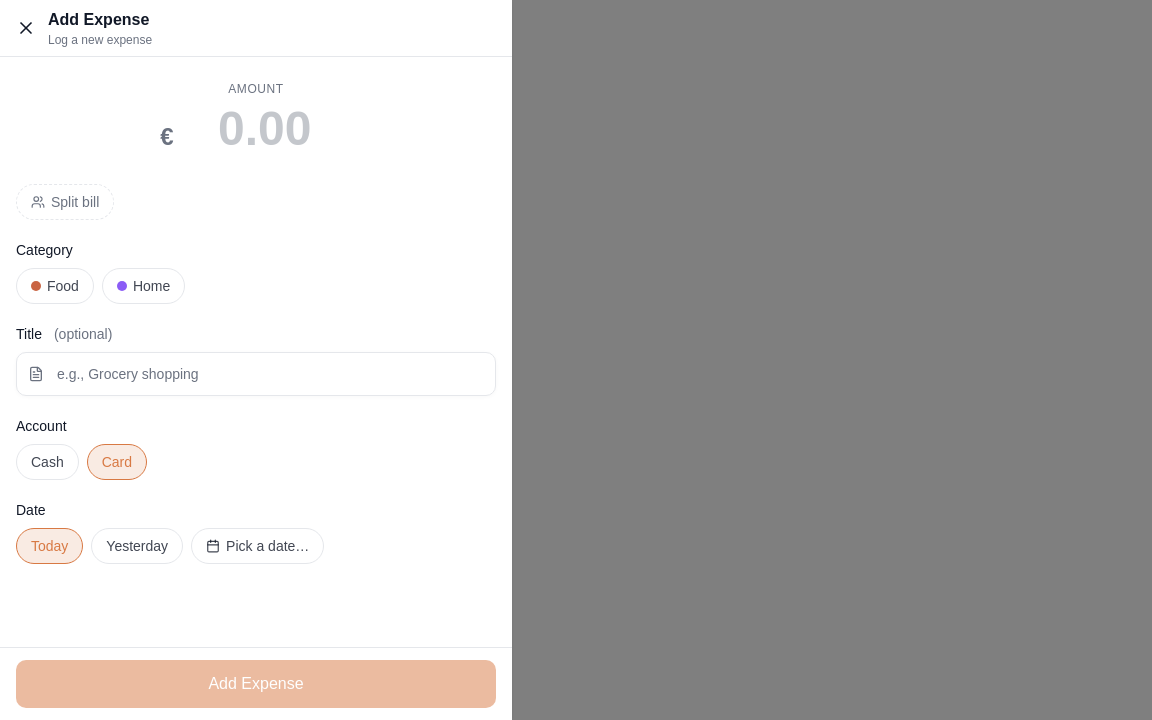
it: AddExpensePage › disables submit until amount and category are set
Expected: the button "Add Expense" is disabled, 16,660 -> 496,708
Step 1. Type "5" into the field labelled "Amount" → x=265, y=128, box 178,101 -> 352,156
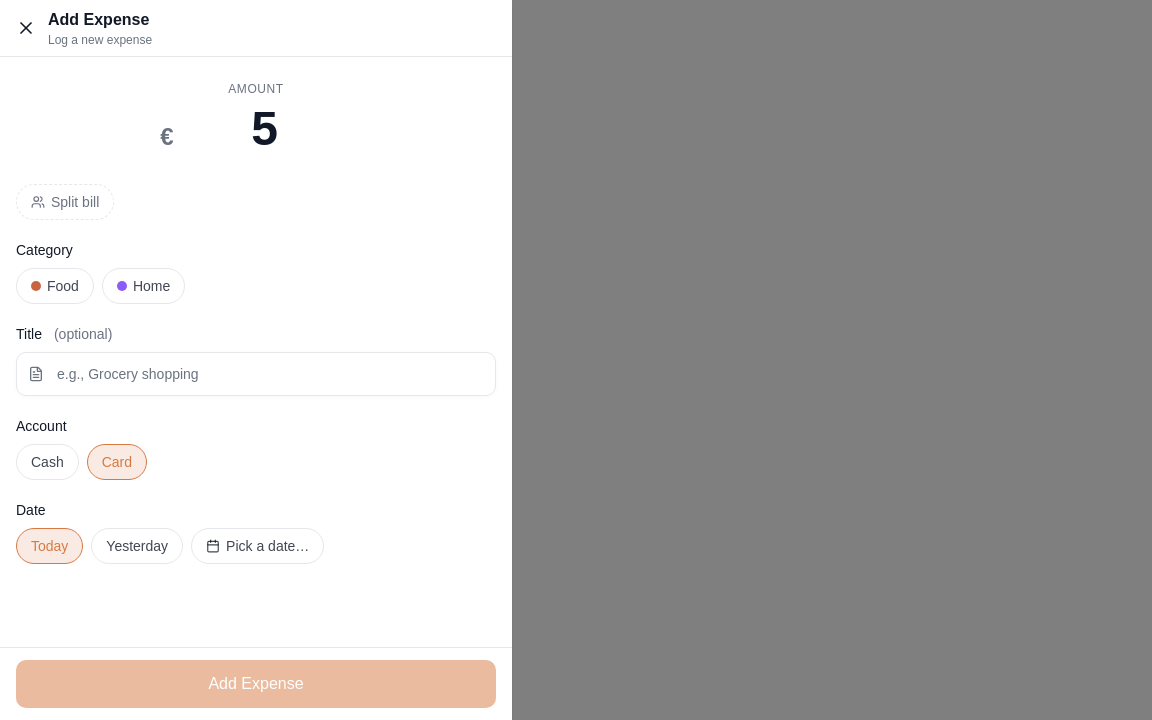
Expected: the button "Add Expense" is disabled, 16,660 -> 496,708
Step 2. Click the radio button labelled "Food" → x=55, y=286, box 16,268 -> 94,304
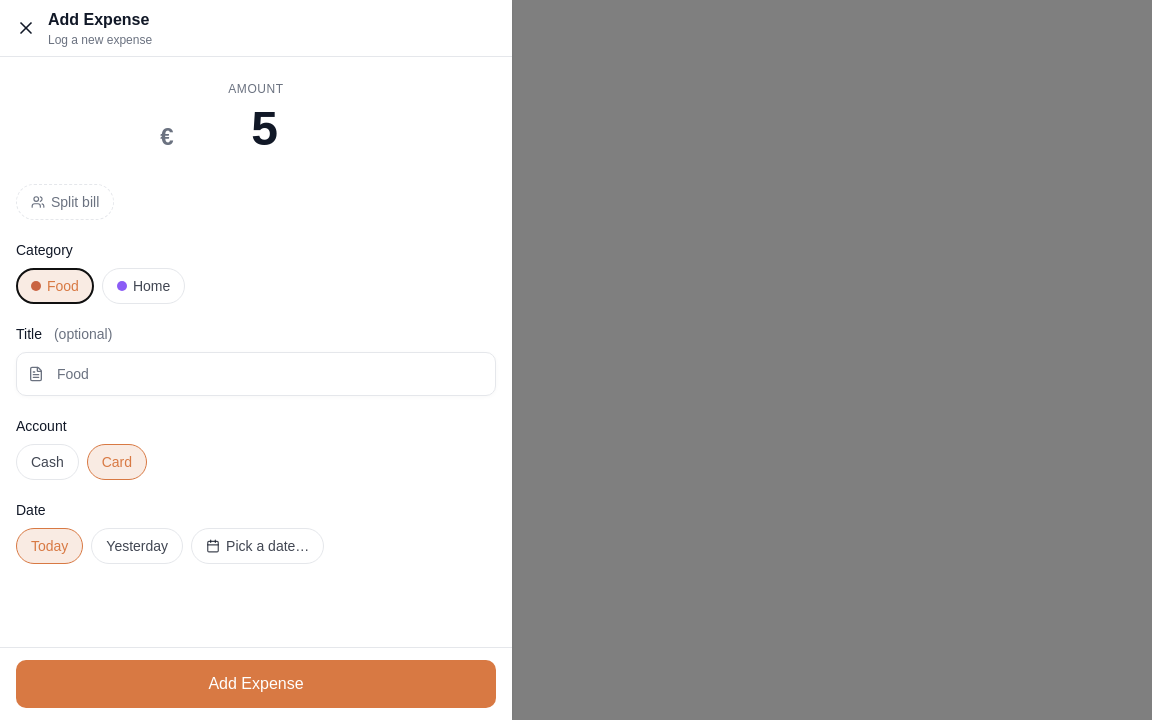
Expected: the button "Add Expense" is enabled, 16,660 -> 496,708
